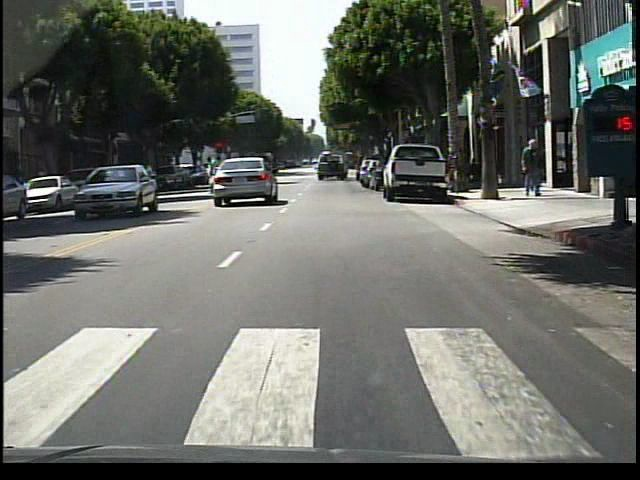person: (522, 138, 545, 200), (526, 147, 541, 196), (208, 157, 224, 201)
